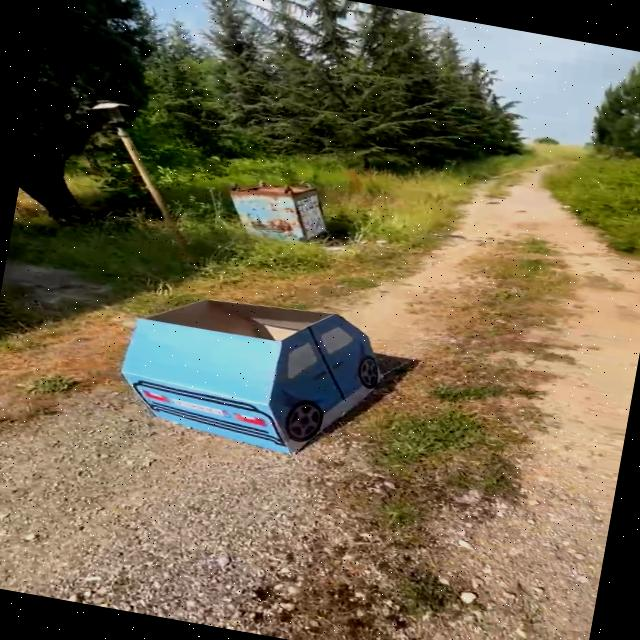blue_car: (101, 265, 406, 476)
